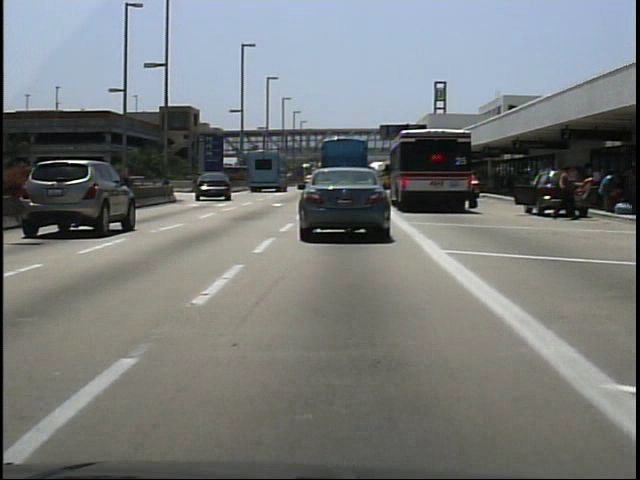person: (551, 162, 580, 222)
